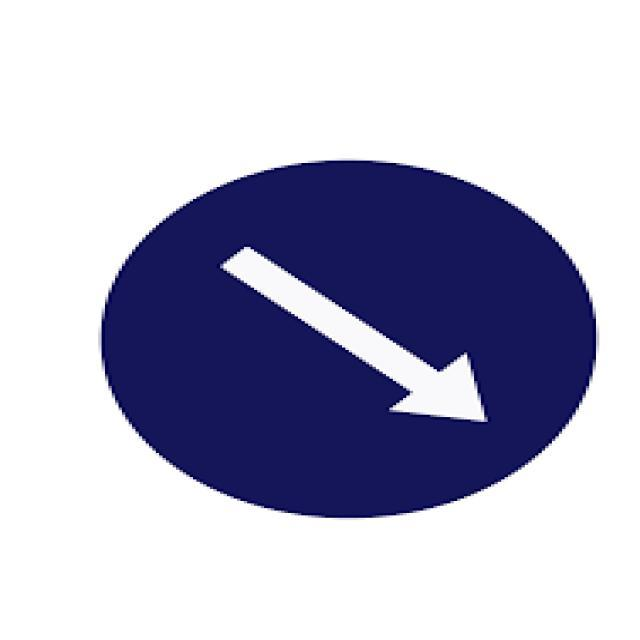compulsary keep right: (82, 147, 609, 530)
